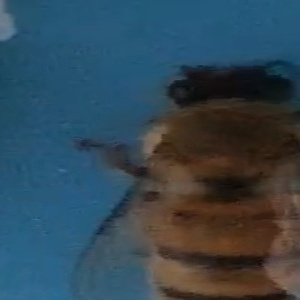bee: (63, 57, 298, 300)
